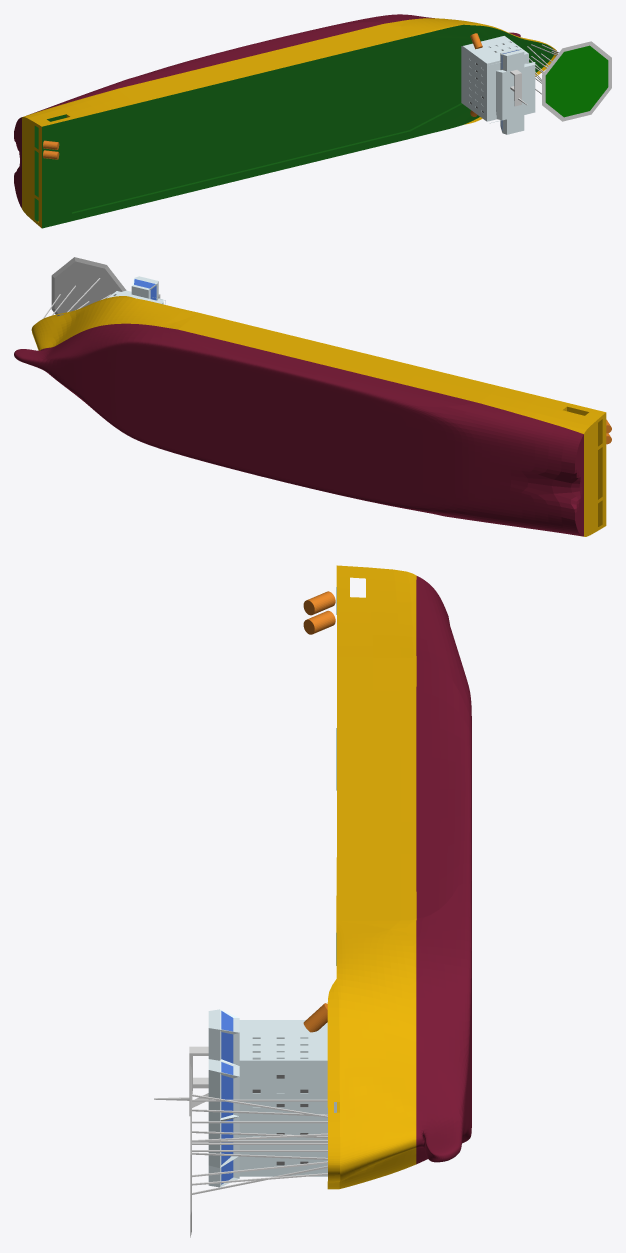
Rendered from koala_hull.glb.
The picture shows the model from 3 angles, top to bottom: view 1: azimuth 30°, elevation 25°; view 2: azimuth 150°, elevation 25°; view 3: azimuth 270°, elevation 25°; orthographic projection. The views are drawn at different scales.
Visible parts, largest first — view 1: Hull, Accomodation, Circle, Cube.001; view 2: Hull, Circle, Accomodation; view 3: Hull, Accomodation, Cube.
Boxes of the visible parts, left/top/right/bottom form: Hull: left=14, top=14, right=557, bottom=228; Accomodation: left=461, top=36, right=535, bottom=134; Circle: left=542, top=41, right=611, bottom=121; Cube.001: left=510, top=70, right=527, bottom=106; Hull: left=14, top=296, right=606, bottom=536; Circle: left=51, top=257, right=126, bottom=316; Accomodation: left=107, top=276, right=165, bottom=304; Hull: left=327, top=565, right=471, bottom=1189; Accomodation: left=208, top=1009, right=336, bottom=1187; Cube: left=192, top=1094, right=327, bottom=1194.
Bounding box in the file's own units: 155 × 28.23 × 39.93.
